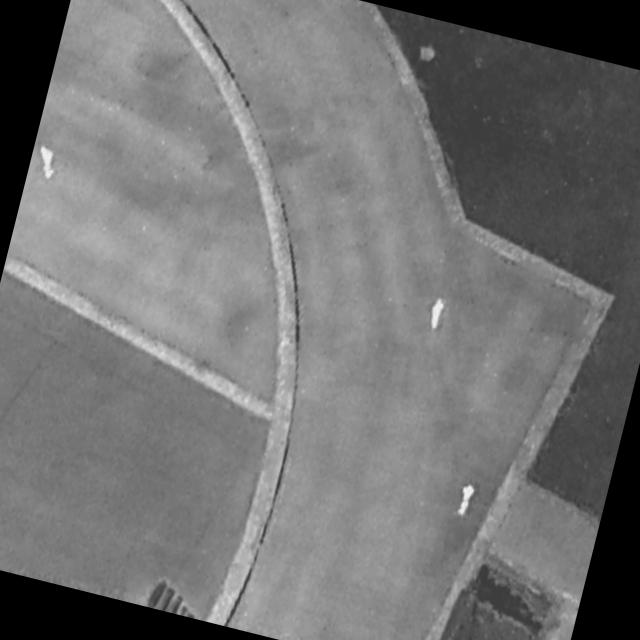person: (33, 141, 64, 181), (424, 293, 450, 333), (454, 482, 477, 519)
